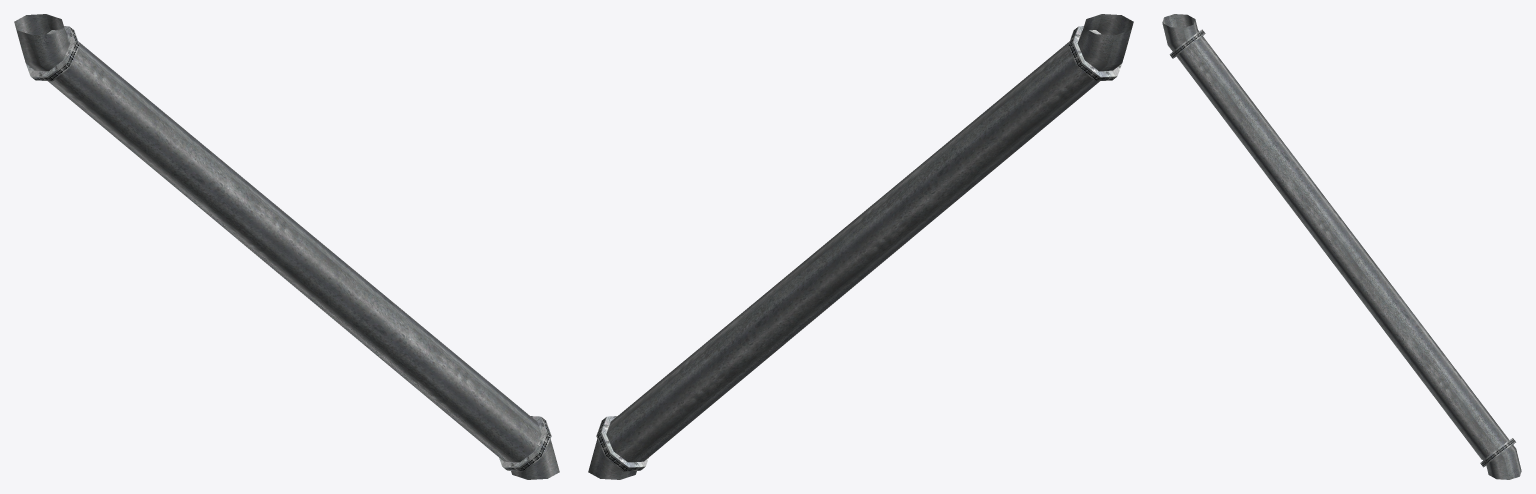
The model's file is 45_deg_grey_4m.fbx.
3 views of the same model, side by side, from view 1: azimuth 30°, elevation 25°; view 2: azimuth 150°, elevation 25°; view 3: azimuth 330°, elevation 25° (orthographic). The views are drawn at different scales.
Visible parts, largest first — view 1: mesh_0; view 2: mesh_0; view 3: mesh_0.
Boxes of the visible parts, x1,y1,x2,y2 form: mesh_0: (14,14,559,479); mesh_0: (588,14,1133,479); mesh_0: (1162,14,1521,479).
Bounding box in the file's own units: 300 × 300 × 30.47.
1 material, 1 textured.
